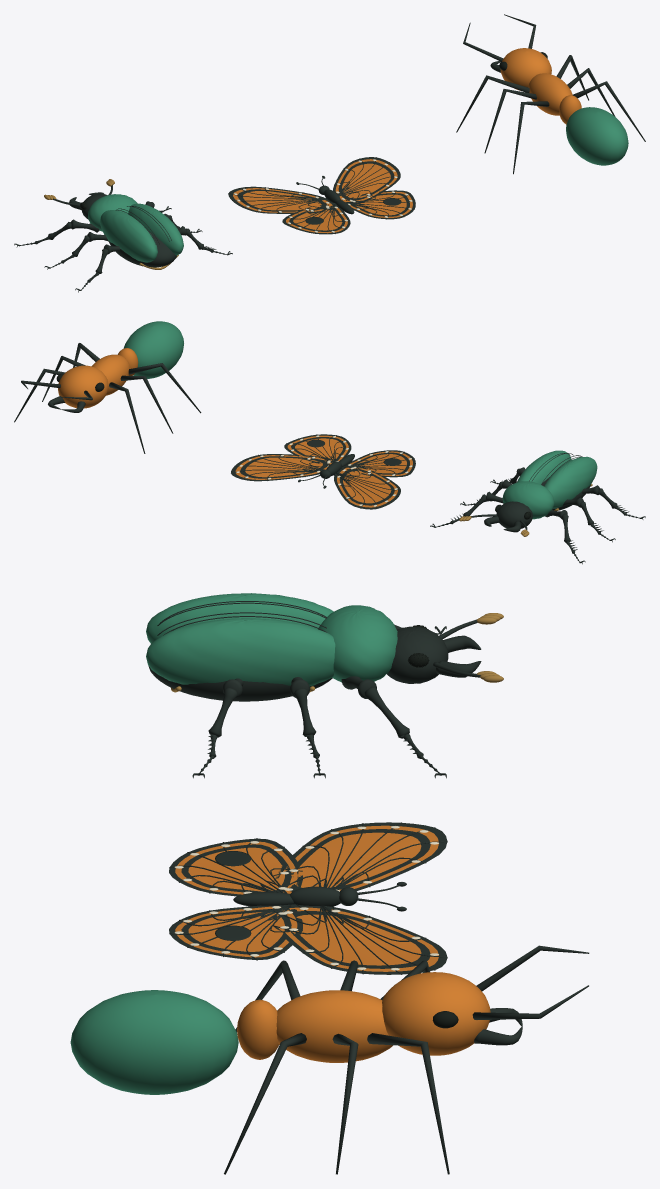
3 renders of one model, top to bottom at view 1: azimuth 30°, elevation 25°; view 2: azimuth 150°, elevation 25°; view 3: azimuth 270°, elevation 25°, orthographic. The views are drawn at different scales.
Parts seen in each view (by area): view 1: B04_SPEC_Chitin_export, B04_SPEC_Ochre scales_export, B04_SPEC_Iridescent jade_export; view 2: B04_SPEC_Chitin_export, B04_SPEC_Ochre scales_export, B04_SPEC_Iridescent jade_export; view 3: B04_SPEC_Iridescent jade_export, B04_SPEC_Chitin_export, B04_SPEC_Ochre scales_export, B04_SPEC_Pale scales_export.
Boxes of the visible parts, <box> form: B04_SPEC_Chitin_export: <box>14,14,645,292</box>; B04_SPEC_Ochre scales_export: <box>233,48,581,233</box>; B04_SPEC_Iridescent jade_export: <box>88,107,628,262</box>; B04_SPEC_Chitin_export: <box>14,343,645,564</box>; B04_SPEC_Ochre scales_export: <box>58,348,412,507</box>; B04_SPEC_Iridescent jade_export: <box>123,321,597,519</box>; B04_SPEC_Iridescent jade_export: <box>70,593,397,1094</box>; B04_SPEC_Chitin_export: <box>148,601,589,1174</box>; B04_SPEC_Ochre scales_export: <box>175,825,490,1062</box>; B04_SPEC_Pale scales_export: <box>174,826,438,970</box>.
Bounding box in the file's own units: 2.55 × 0.3343 × 1.01.
